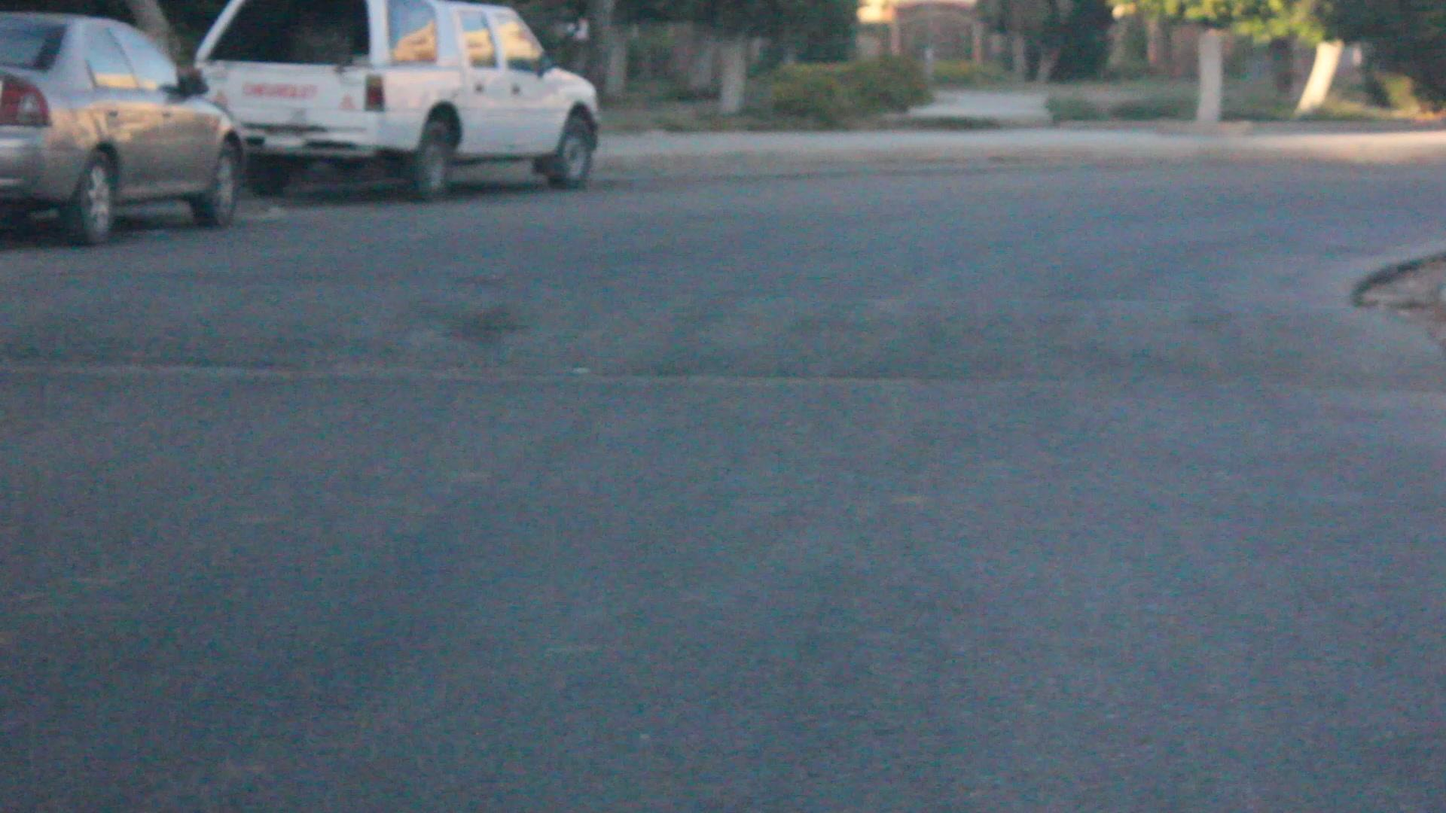Bump: (4, 261, 1444, 393)
